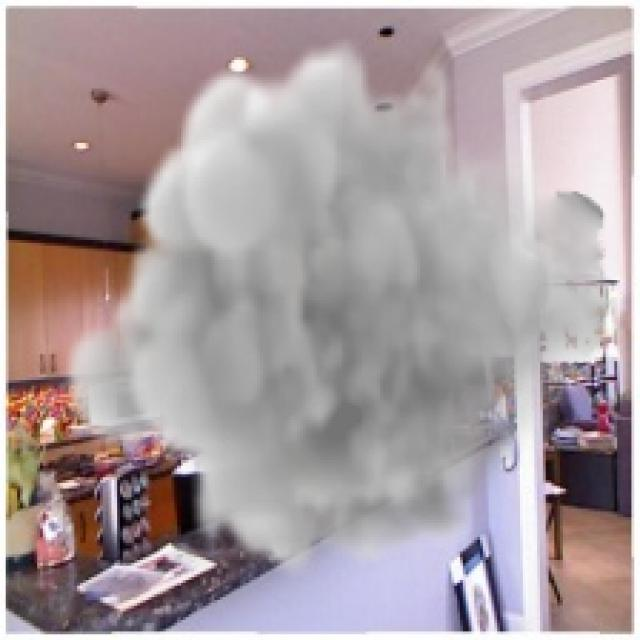Smoke: (57, 37, 614, 577)
